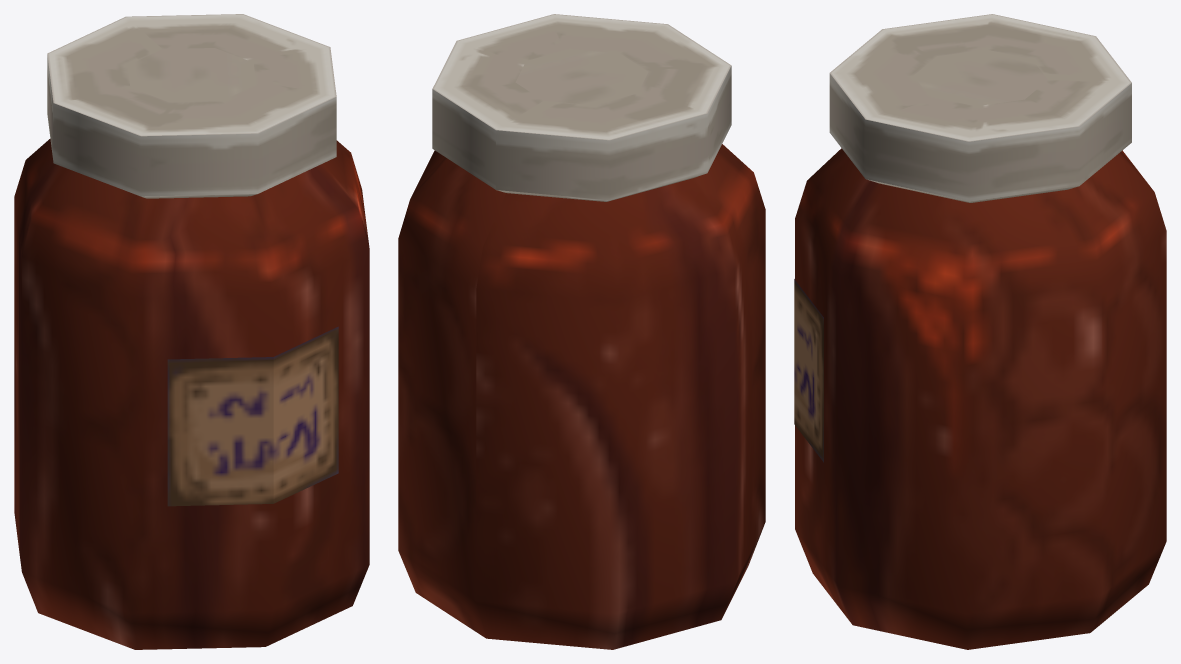
The model's file is Jar_Single3.fbx.
3 views of the same model, side by side, from view 1: azimuth 30°, elevation 25°; view 2: azimuth 150°, elevation 25°; view 3: azimuth 270°, elevation 25° (orthographic).
Visible parts, largest first — view 1: Jar_single3; view 2: Jar_single3; view 3: Jar_single3.
Part boxes in pixels (x1=…): Jar_single3: x1=14, y1=14, x2=369, y2=649; Jar_single3: x1=398, y1=14, x2=765, y2=649; Jar_single3: x1=794, y1=14, x2=1166, y2=649.
Size of the model in its own units: 13.75 by 20.45 by 13.77.
Materials: 1 (1 with a texture image).
